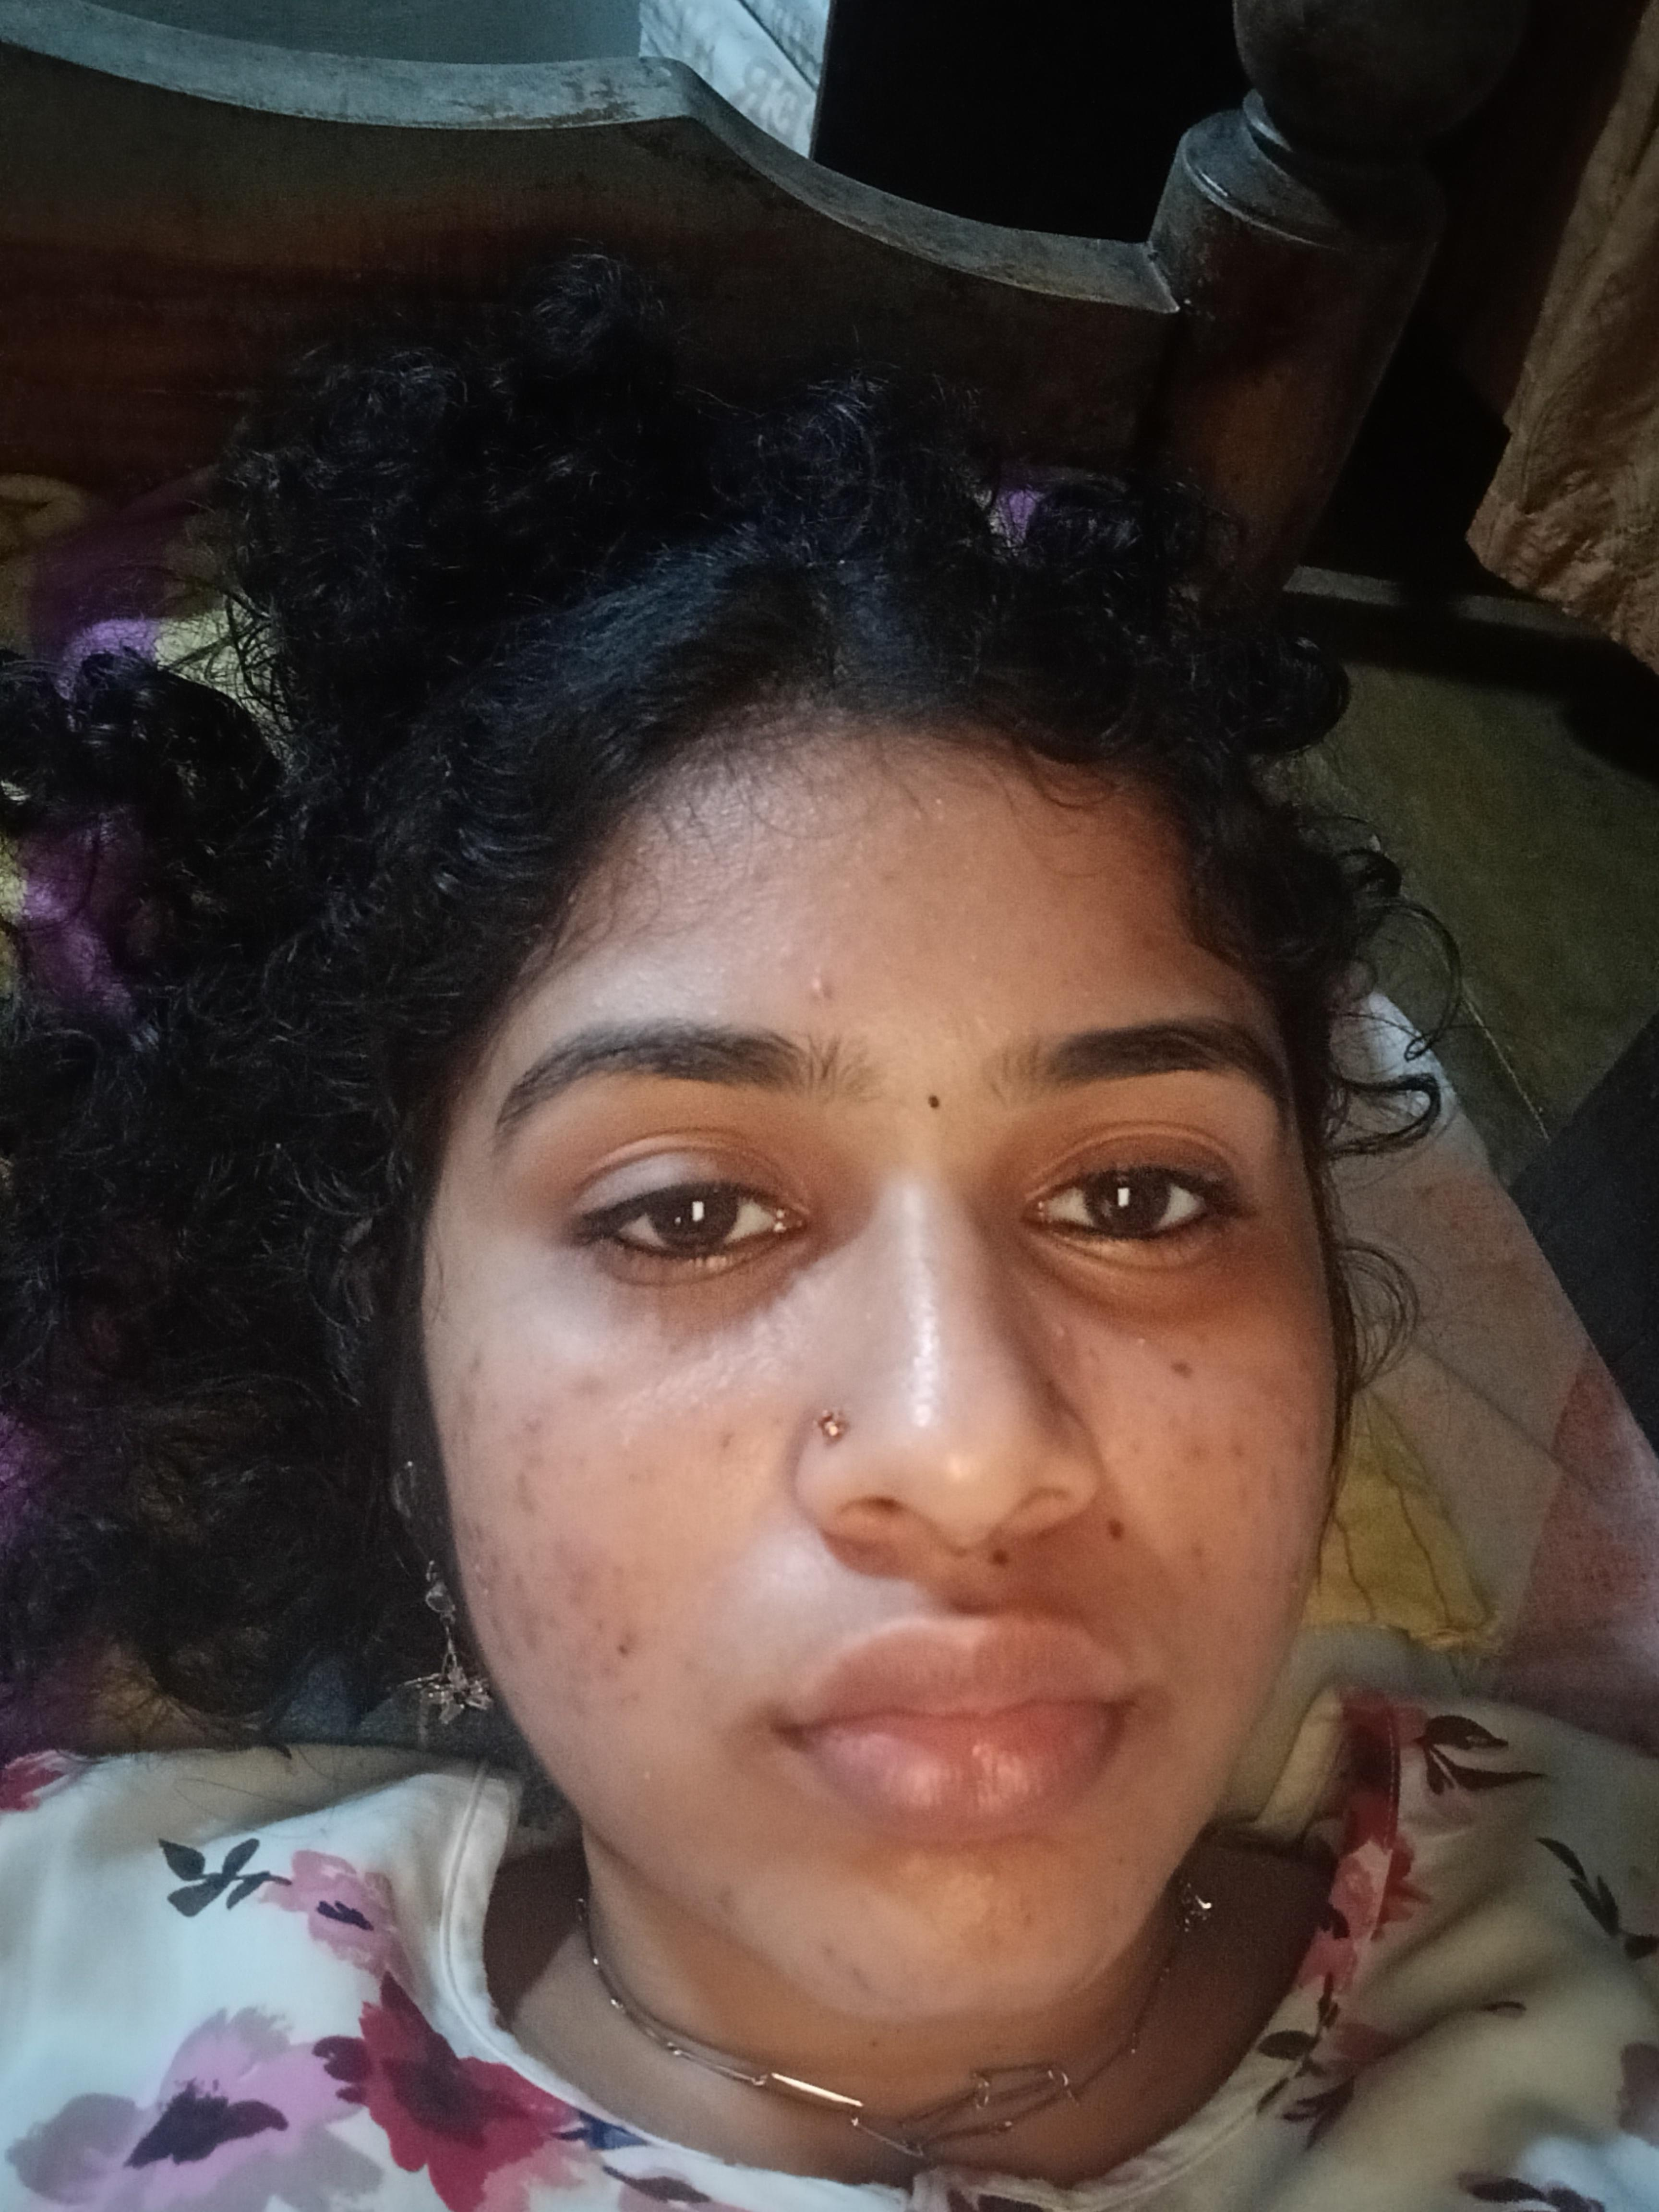Acne: (460, 1515, 545, 1660), (551, 1543, 643, 1667), (817, 1932, 894, 2006), (441, 1343, 491, 1442), (1262, 1425, 1326, 1501), (1000, 1872, 1051, 1930), (1187, 1428, 1258, 1465), (697, 1420, 744, 1470), (554, 1369, 610, 1409), (704, 1871, 753, 1912), (800, 970, 833, 1015), (1047, 1305, 1079, 1350), (1164, 1352, 1202, 1388), (509, 1407, 549, 1440), (512, 1461, 537, 1510), (1124, 1324, 1164, 1352), (596, 1426, 629, 1460)
